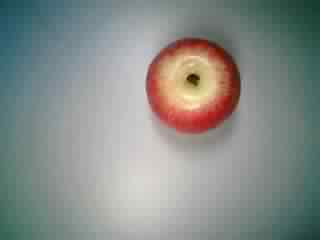apple: (141, 31, 245, 135)
